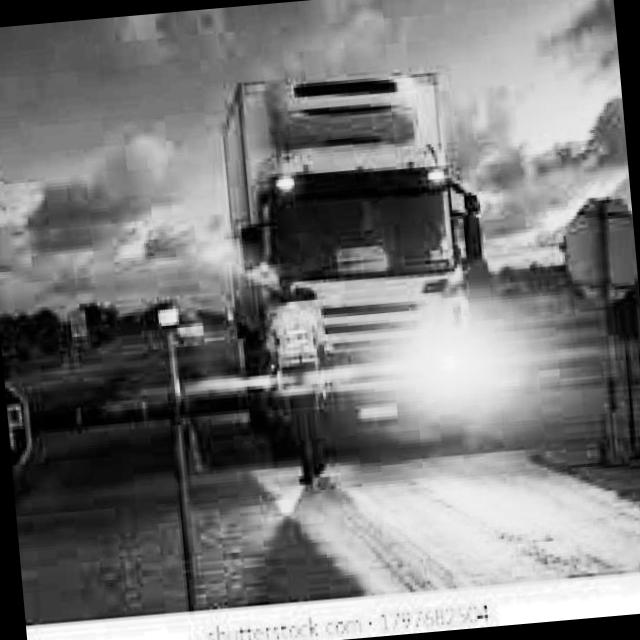Truck: (206, 56, 502, 478)
